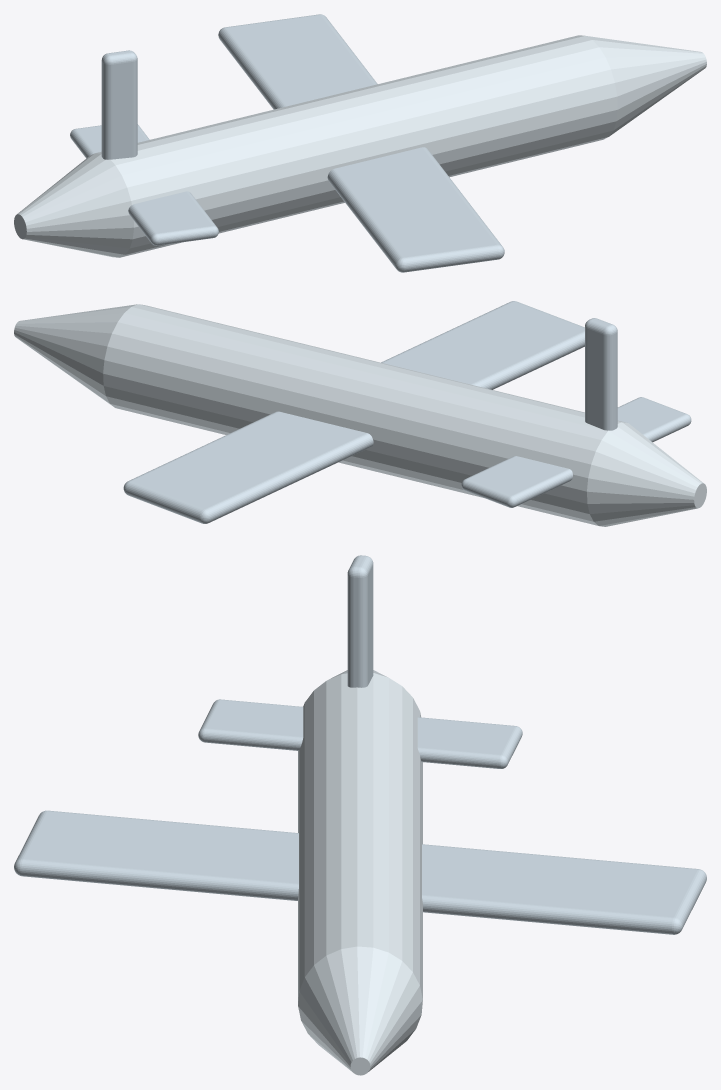
File: jmpseat-aircraft.glb
3 renders of one model, top to bottom at view 1: azimuth 30°, elevation 25°; view 2: azimuth 150°, elevation 25°; view 3: azimuth 270°, elevation 25°, orthographic. The views are drawn at different scales.
Parts seen in each view (by area): view 1: aircraft_fuselage, aircraft_main_wing, aircraft_tail_cone, aircraft_nose, aircraft_tail_wing, aircraft_vertical_tail; view 2: aircraft_fuselage, aircraft_main_wing, aircraft_tail_cone, aircraft_tail_wing, aircraft_nose, aircraft_vertical_tail; view 3: aircraft_main_wing, aircraft_fuselage, aircraft_nose, aircraft_tail_wing, aircraft_vertical_tail.
Part boxes in pixels (box(x1,y1,x2,y2)): aircraft_fuselage: box(95, 35, 617, 257); aircraft_main_wing: box(218, 14, 504, 272); aircraft_tail_cone: box(14, 153, 133, 257); aircraft_nose: box(586, 36, 706, 136); aircraft_tail_wing: box(70, 124, 218, 245); aircraft_vertical_tail: box(101, 50, 137, 159); aircraft_fuselage: box(103, 304, 625, 525); aircraft_main_wing: box(123, 301, 584, 523); aircraft_tail_cone: box(587, 422, 706, 526); aircraft_tail_wing: box(461, 397, 691, 507); aircraft_nose: box(14, 304, 136, 405); aircraft_vertical_tail: box(585, 318, 617, 430); aircraft_main_wing: box(14, 810, 706, 934); aircraft_fuselage: box(298, 673, 422, 1004); aircraft_nose: box(298, 946, 422, 1075); aircraft_tail_wing: box(198, 699, 522, 768); aircraft_vertical_tail: box(347, 555, 373, 687).
Bounding box in the file's own units: 1.1 × 0.3049 × 0.8313.
